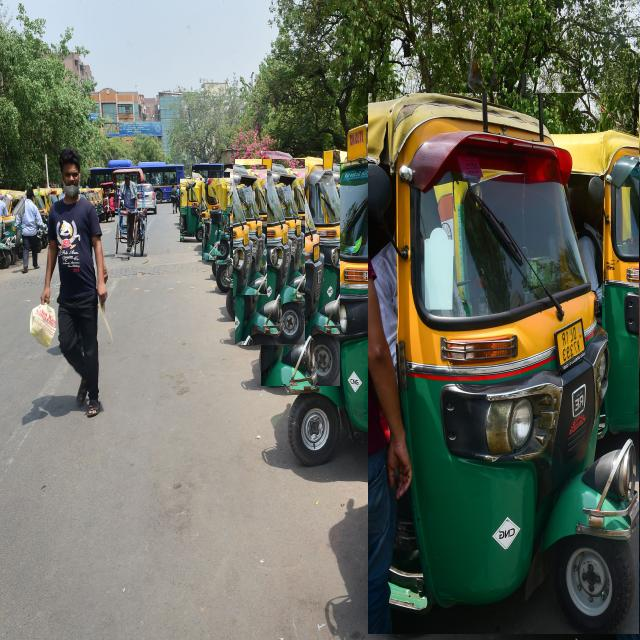autorickshaw: (369, 94, 639, 634), (280, 133, 454, 464), (261, 152, 340, 386), (235, 159, 305, 345), (234, 165, 267, 295), (202, 173, 230, 260), (180, 179, 206, 242), (0, 216, 16, 269), (35, 188, 61, 214), (0, 189, 25, 215), (100, 182, 116, 222), (0, 197, 15, 235), (0, 199, 8, 212)
bicycle: (116, 209, 147, 257)
bus: (139, 162, 185, 203), (192, 164, 224, 178)
car: (136, 184, 156, 214)
